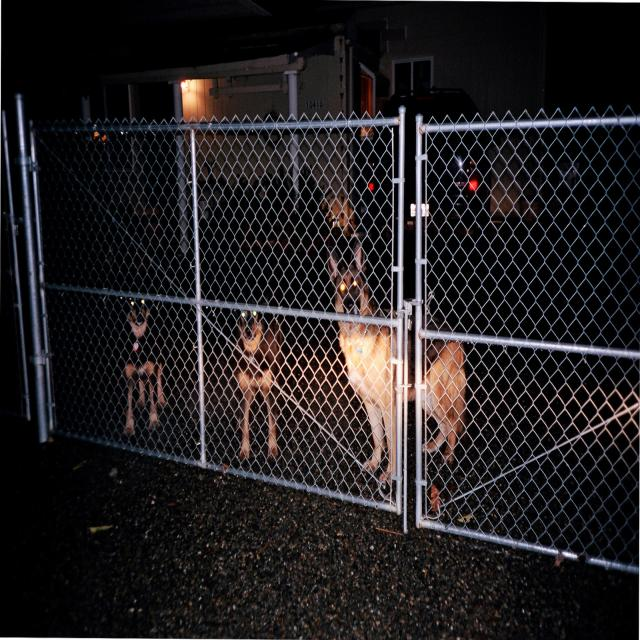dog: (329, 232, 479, 494), (203, 257, 283, 466), (106, 277, 158, 433)
